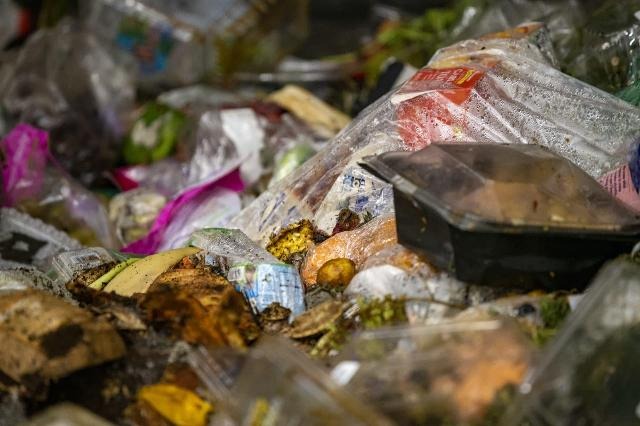Disposable: (360, 142, 638, 296), (3, 206, 116, 296)
Garbage: (0, 0, 640, 426)
Plastic_Bag: (186, 33, 640, 319), (114, 107, 266, 254), (450, 0, 640, 106), (173, 334, 388, 426)
